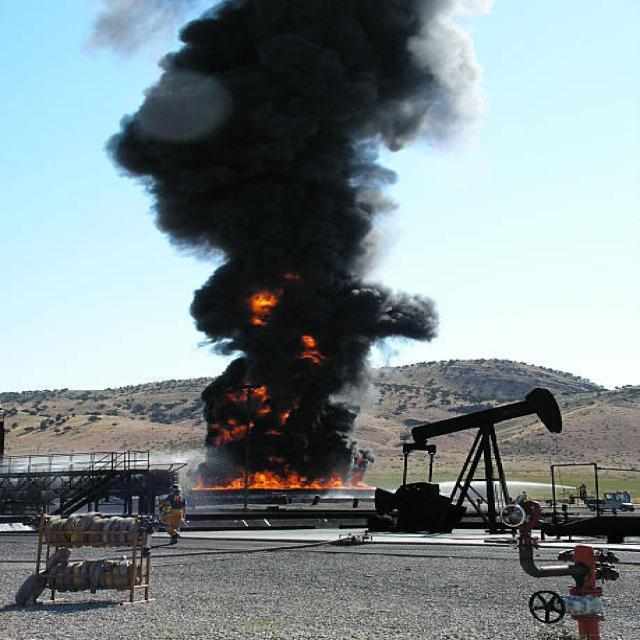Fire: (206, 276, 377, 488)
Smoke: (150, 0, 458, 333)
